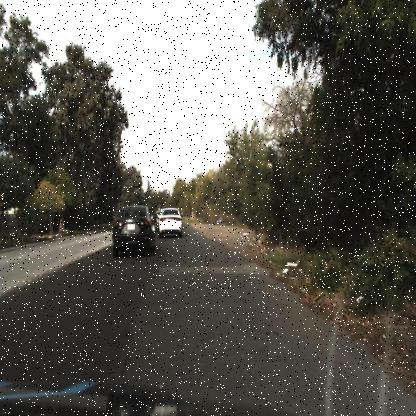car: (108, 197, 158, 269), (155, 200, 186, 242), (157, 206, 184, 239)
